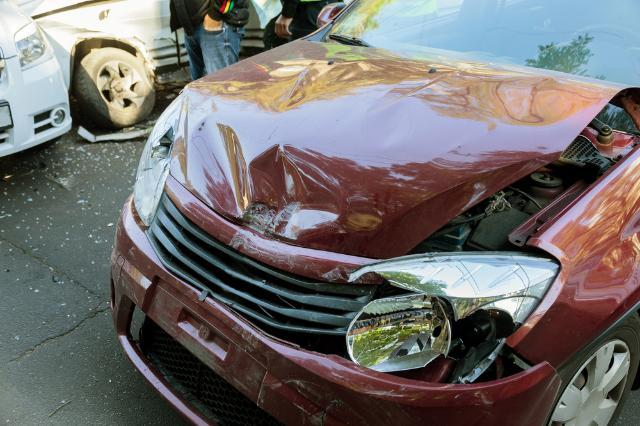dent: (178, 64, 595, 241)
dislocated part: (171, 40, 640, 264), (114, 199, 565, 426)
lamp broken: (348, 288, 511, 380), (133, 96, 179, 225)
